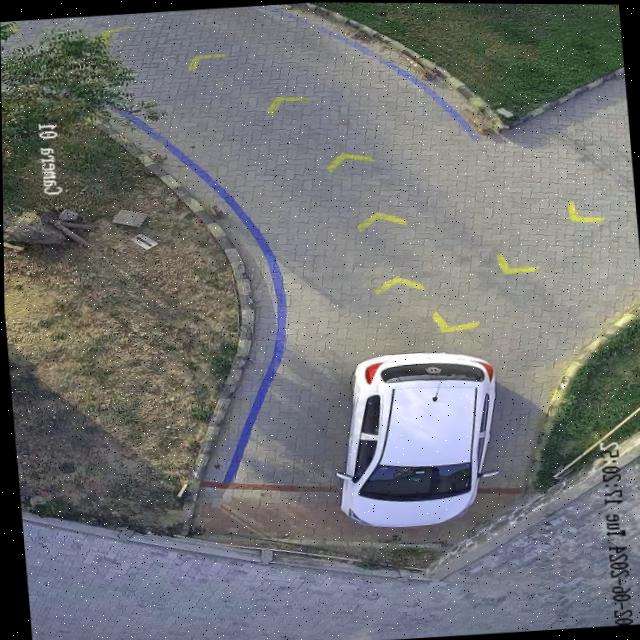car: (335, 352, 494, 528)
